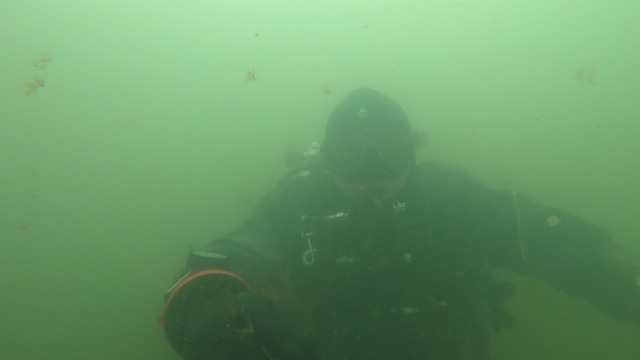Diver: (152, 71, 638, 357)
Head: (311, 87, 424, 229)
